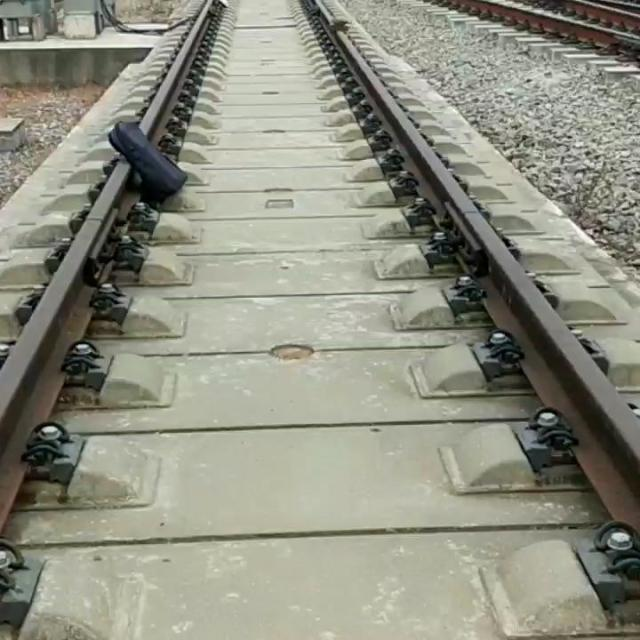danger: (100, 105, 213, 212)
rail: (309, 1, 640, 532), (0, 160, 131, 532)
